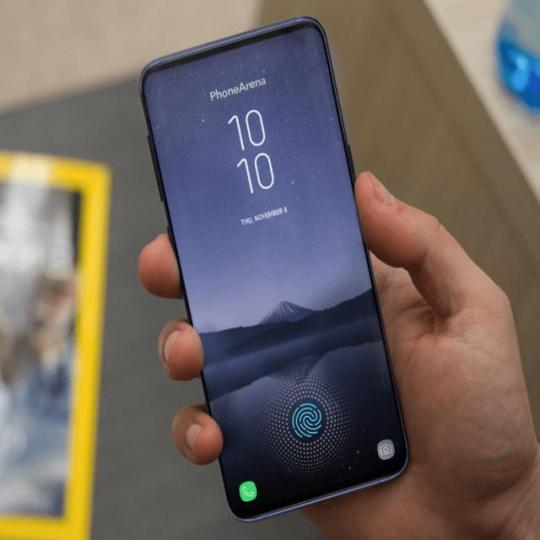phone: (136, 13, 415, 522)
